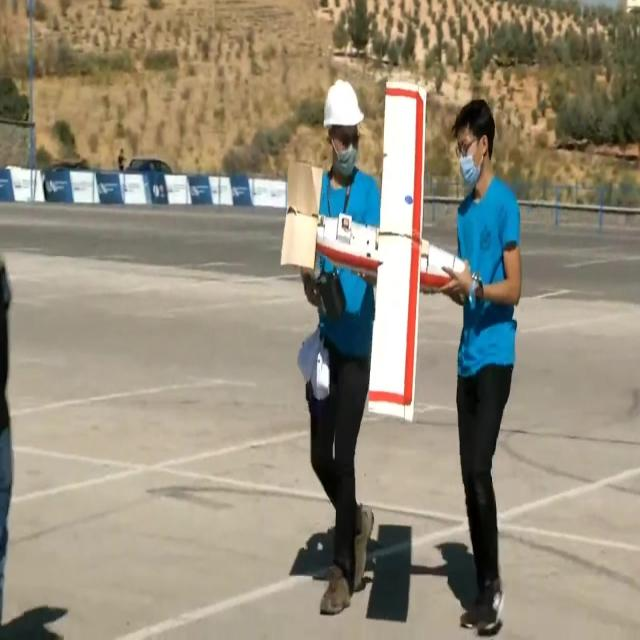iha: (279, 75, 472, 427)
